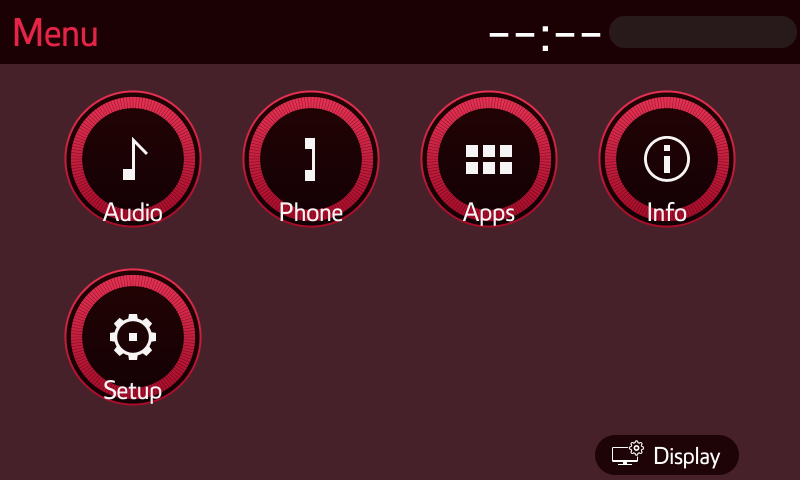touchPart: (587, 82, 745, 229), (63, 82, 217, 229), (67, 262, 202, 419), (240, 85, 379, 232), (416, 86, 555, 230), (586, 427, 738, 474)
untouchPart: (485, 11, 794, 54), (11, 13, 106, 47)
